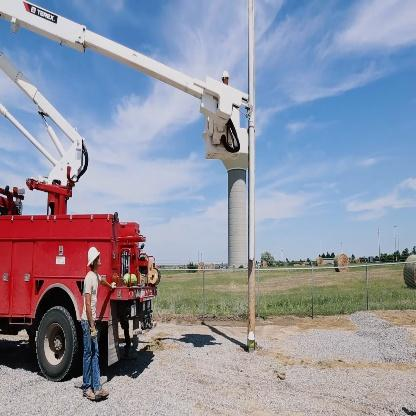helmet: (83, 243, 108, 272)
